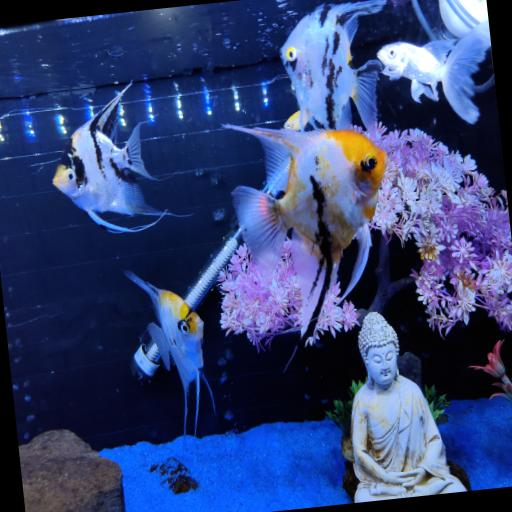Fish: (227, 126, 386, 335), (53, 83, 165, 231), (125, 271, 214, 435), (281, 0, 385, 130), (378, 23, 490, 123), (284, 111, 300, 130)
